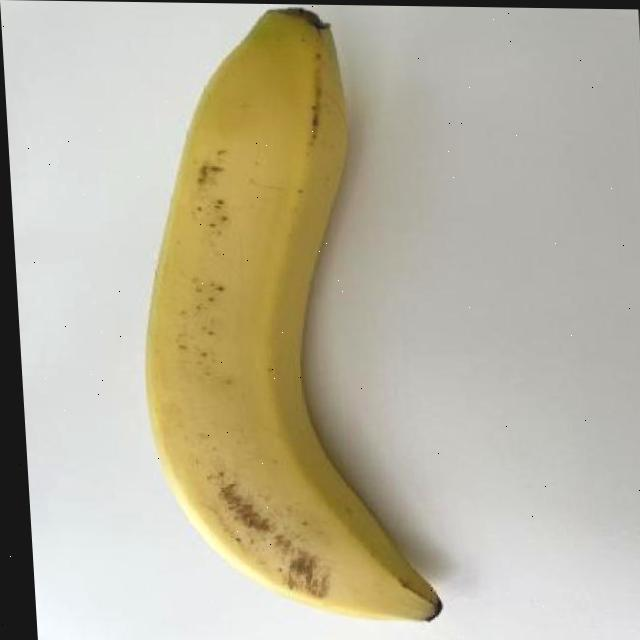banana: (119, 3, 452, 630)
